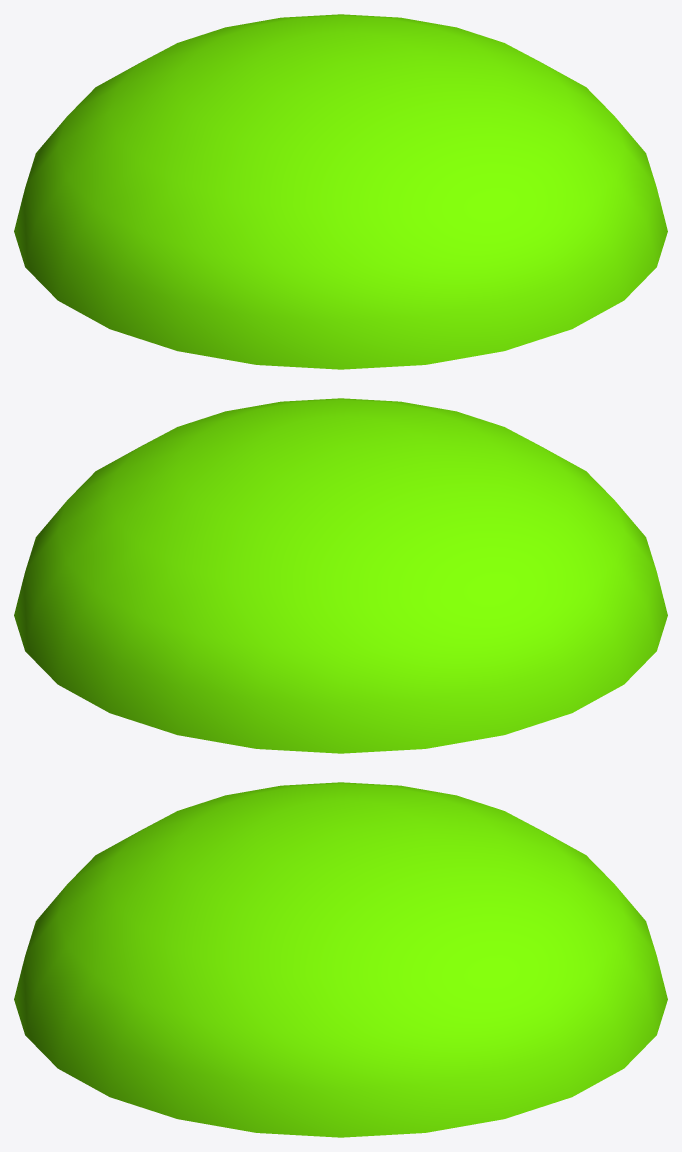
File: original-132.obj
The picture shows the model from 3 angles, top to bottom: view 1: azimuth 30°, elevation 25°; view 2: azimuth 150°, elevation 25°; view 3: azimuth 270°, elevation 25°; orthographic projection.
Parts seen in each view (by area): view 1: mesh55/mesh55-geometry#mesh55-geometry; view 2: mesh55/mesh55-geometry#mesh55-geometry; view 3: mesh55/mesh55-geometry#mesh55-geometry.
Part boxes in pixels (left/top/right/bottom): mesh55/mesh55-geometry#mesh55-geometry: left=14, top=14, right=667, bottom=369; mesh55/mesh55-geometry#mesh55-geometry: left=14, top=398, right=667, bottom=753; mesh55/mesh55-geometry#mesh55-geometry: left=14, top=782, right=667, bottom=1137.
Size of the model in its own units: 0.028 by 0.00798 by 0.028.
